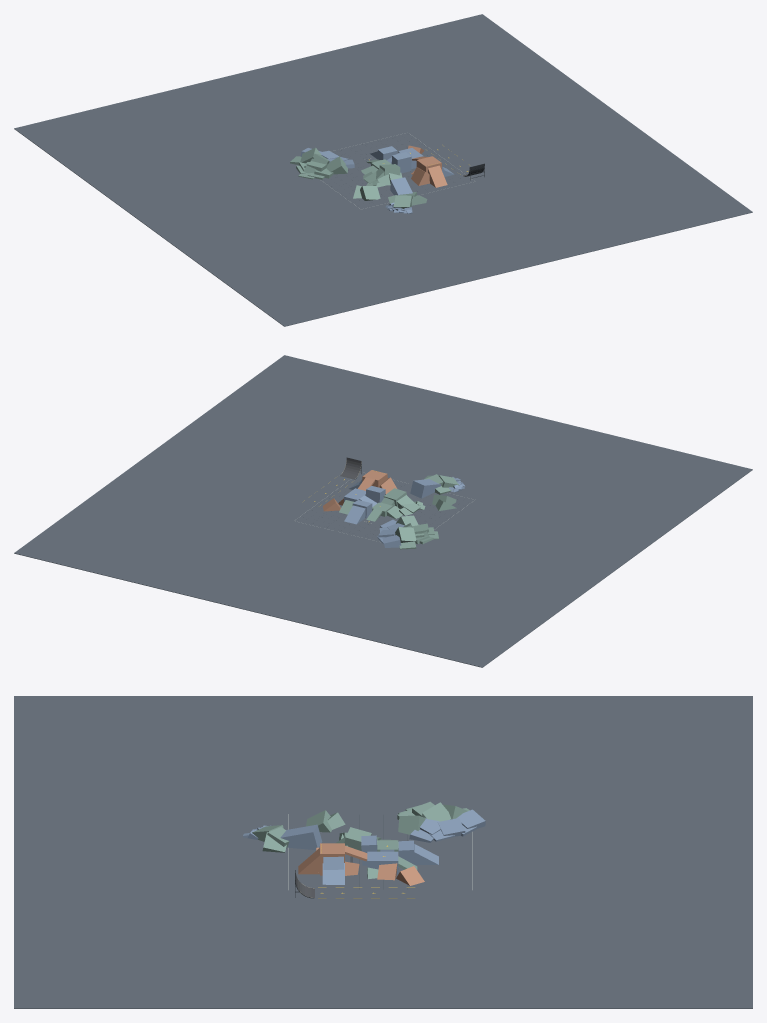
Rendered from Arena.glb.
3 renders of one model, top to bottom at view 1: azimuth 30°, elevation 25°; view 2: azimuth 150°, elevation 25°; view 3: azimuth 270°, elevation 25°, orthographic. The views are drawn at different scales.
Visible parts, largest first — view 1: Dalle; view 2: Dalle; view 3: Dalle, Bloc_04_Deuxieme_terrasse.012.
Boxes of the visible parts, box(x1,y1,x2,y2) form: Dalle: box(14, 14, 752, 326); Dalle: box(14, 355, 752, 667); Dalle: box(14, 696, 752, 1008); Bloc_04_Deuxieme_terrasse.012: box(280, 824, 322, 849).
Bounding box in the file's own units: 500 × 45.77 × 500.
